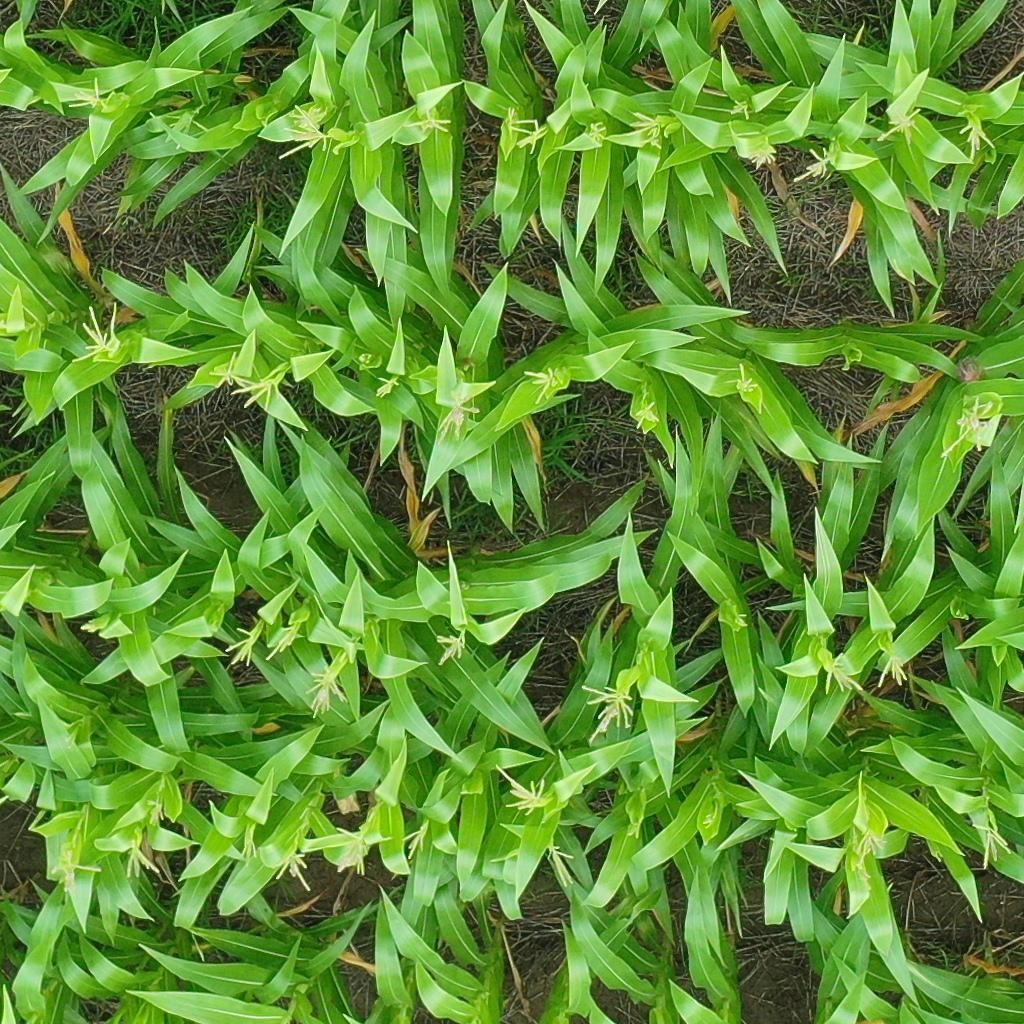Tassel: (940, 393, 1000, 457), (430, 379, 485, 448), (577, 682, 641, 741), (72, 301, 125, 369), (45, 843, 106, 901), (494, 759, 551, 819), (278, 102, 335, 156), (622, 103, 678, 157), (304, 661, 353, 722), (228, 368, 292, 413), (967, 810, 1015, 870), (838, 825, 886, 880), (331, 826, 380, 879), (159, 106, 212, 151), (815, 648, 865, 693), (791, 146, 841, 189), (64, 73, 113, 116), (876, 104, 926, 145), (119, 832, 161, 879), (544, 839, 581, 890), (407, 102, 454, 142), (208, 351, 255, 391), (432, 621, 471, 668), (274, 848, 314, 893), (959, 111, 995, 159), (221, 624, 258, 670), (525, 361, 563, 405), (231, 822, 263, 874), (266, 623, 304, 666), (878, 651, 914, 693), (741, 136, 780, 172), (397, 821, 431, 862), (630, 396, 665, 433), (518, 117, 551, 155), (500, 106, 535, 139), (373, 372, 402, 402), (728, 94, 756, 124), (620, 812, 646, 844), (144, 796, 167, 830), (586, 118, 612, 148), (736, 364, 759, 396), (697, 804, 721, 834), (729, 606, 752, 629), (79, 619, 101, 637)
